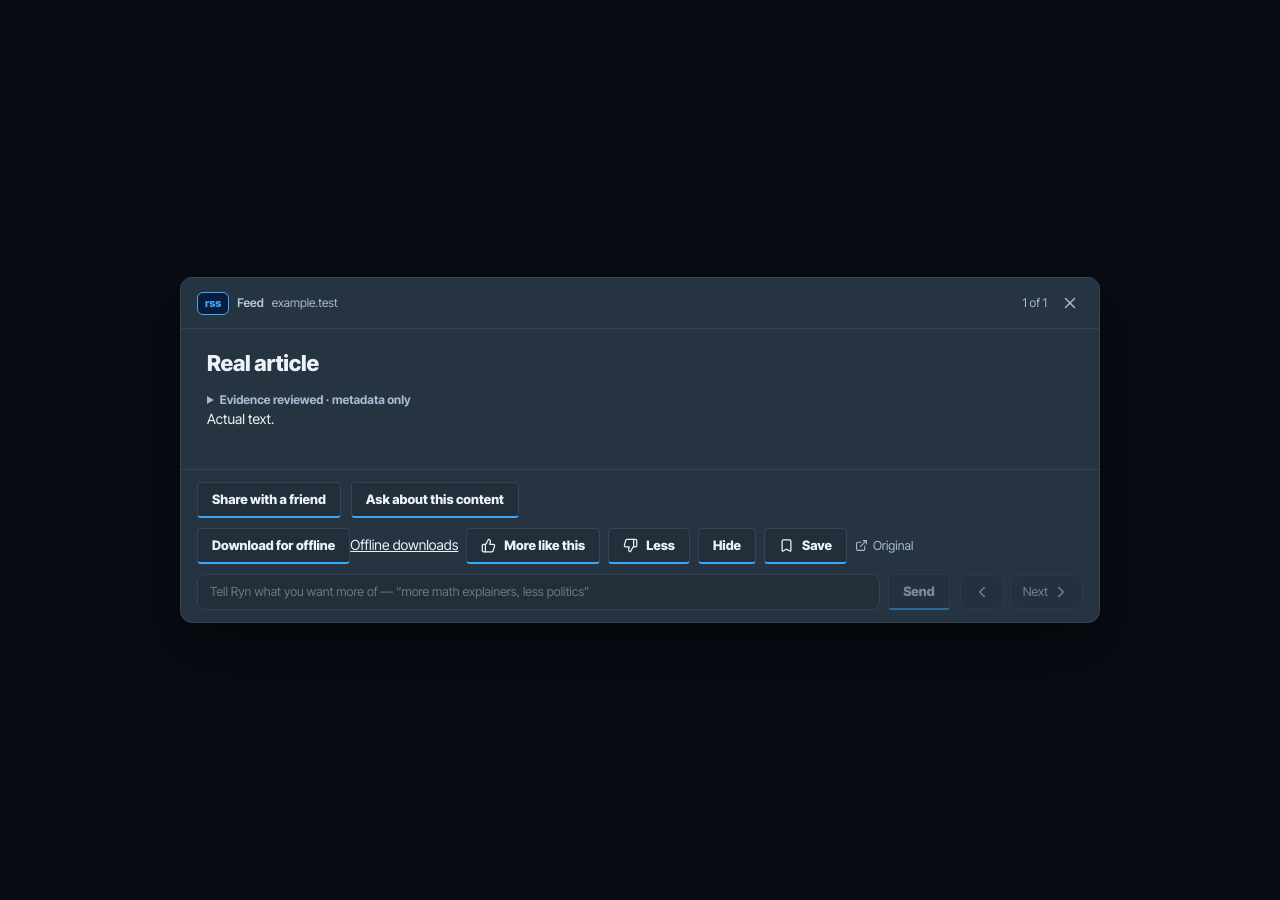
Scenario: does not pretend a failed bookmark or feedback was saved
Expected: the text "Actual text." is shown, [207,410,274,427]
Click the button "Save" at (805, 546), box [764,528,847,564]
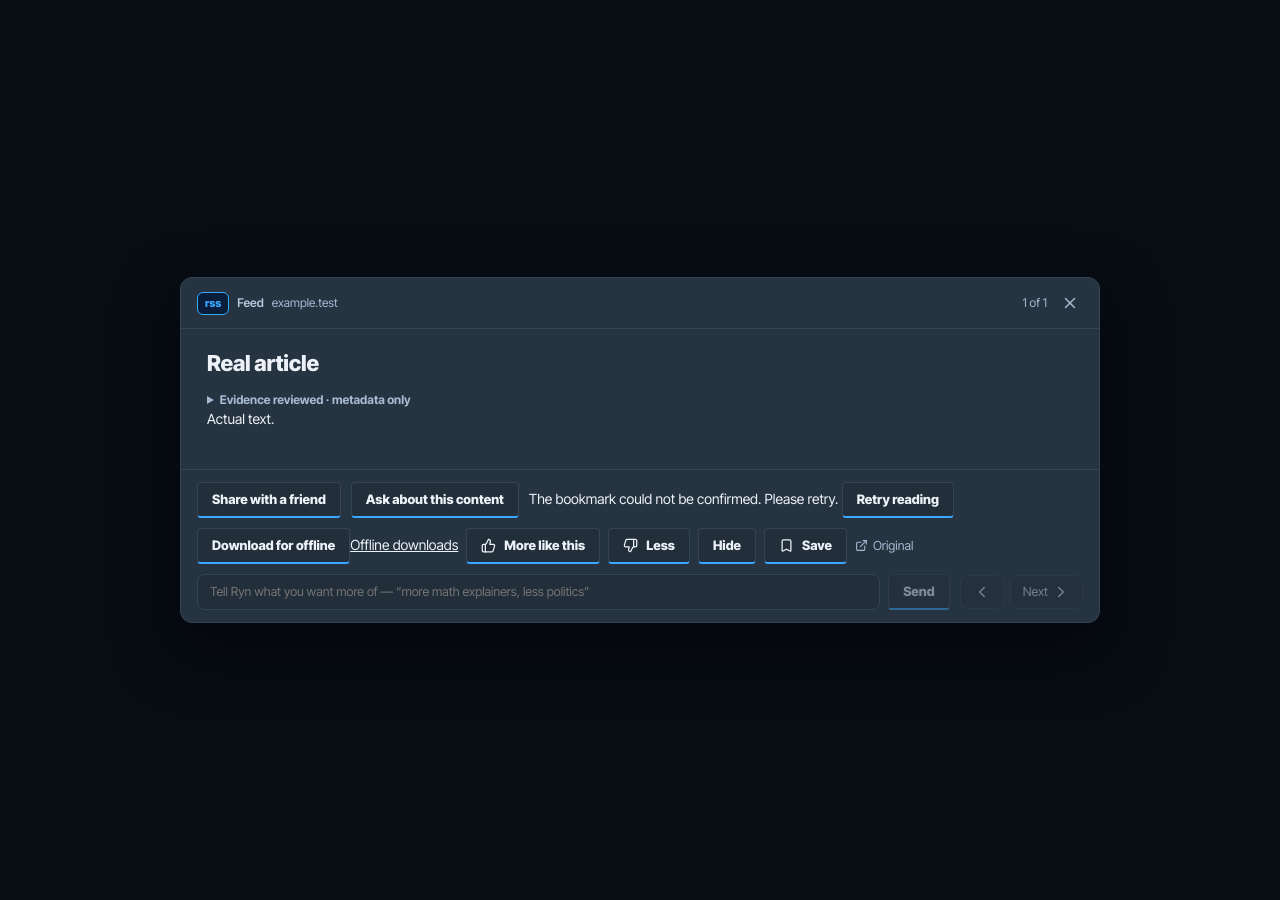
Expected: the button "Saved" is not shown
Expected: the message shows "bookmark could not be confirmed", [529,490,838,507]
Click the button "Save" at (805, 546), box [764,528,847,564]
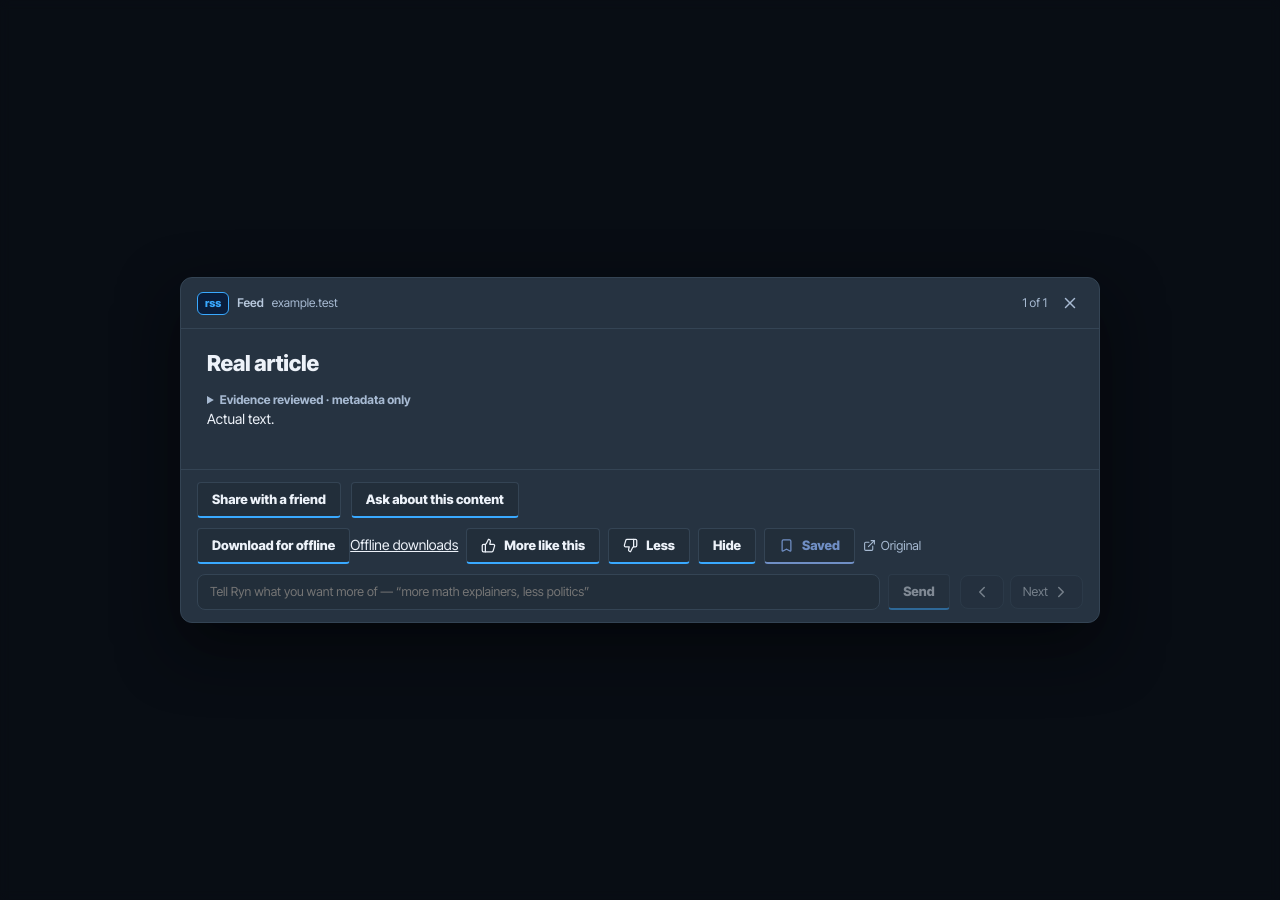
Expected: the button "Saved" is shown, [764,528,855,564]
Click the button "More like this" at (533, 546), box [466,528,600,564]
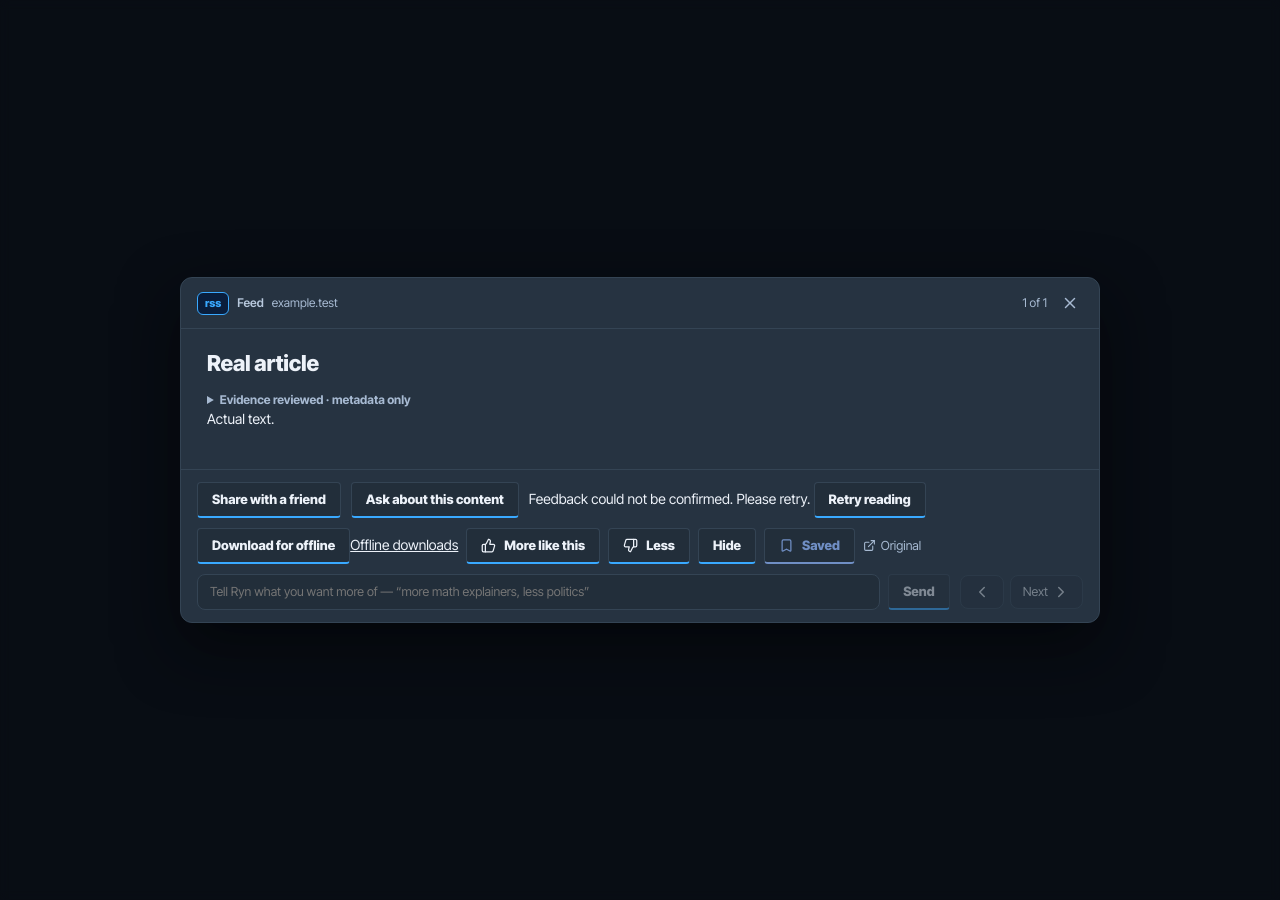
Expected: the message shows "Feedback could not be confirmed", [529,490,810,507]
